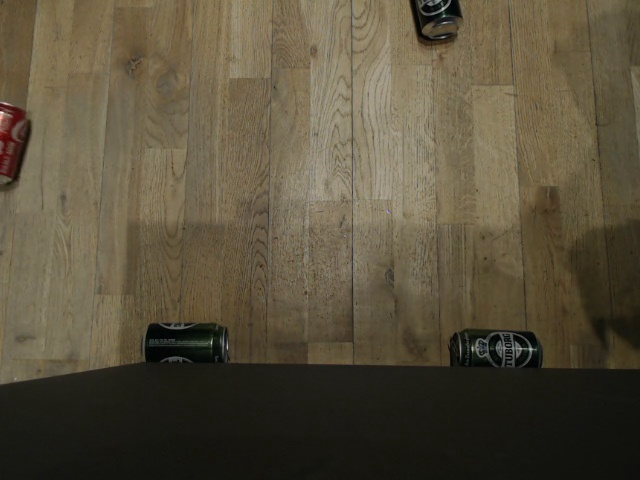beer: (139, 320, 235, 364), (450, 326, 544, 370), (410, 0, 464, 40)
cola: (0, 100, 30, 184)
